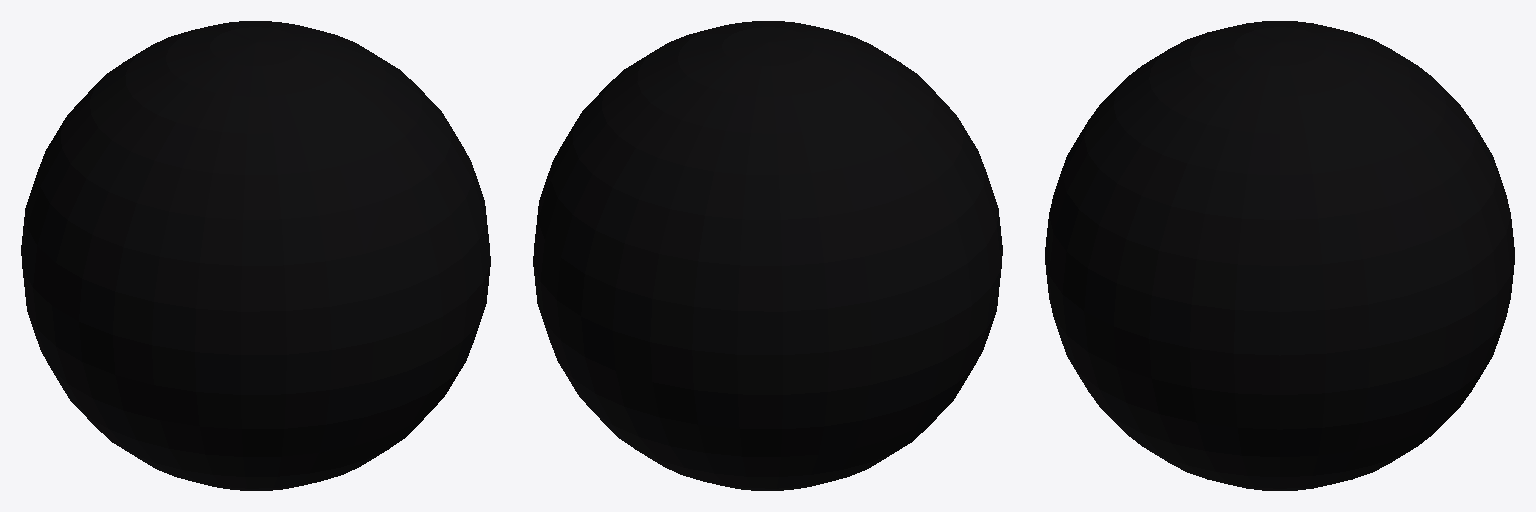
The model's file is bullet.obj.
The picture shows the model from 3 angles: view 1: azimuth 30°, elevation 25°; view 2: azimuth 150°, elevation 25°; view 3: azimuth 270°, elevation 25°; orthographic projection.
Parts seen in each view (by area): view 1: Sphere; view 2: Sphere; view 3: Sphere.
Part boxes in pixels (bbox=[...]): Sphere: bbox=[21, 21, 490, 490]; Sphere: bbox=[533, 21, 1002, 490]; Sphere: bbox=[1045, 21, 1514, 490].
Size of the model in its own units: 0.4 by 0.4 by 0.4.